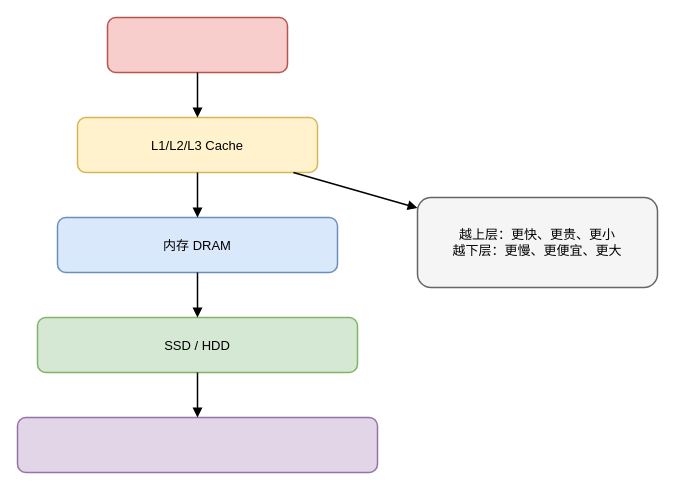
The diagram is 676 pixels wide and 491 high, and some of its shapes have lost their labels. Here are the shapes that lost their labels. From the top down, the box of each, then its label:
(106, 16, 288, 73): 寄存器 最快/最小
(16, 416, 378, 473): 远端存储
